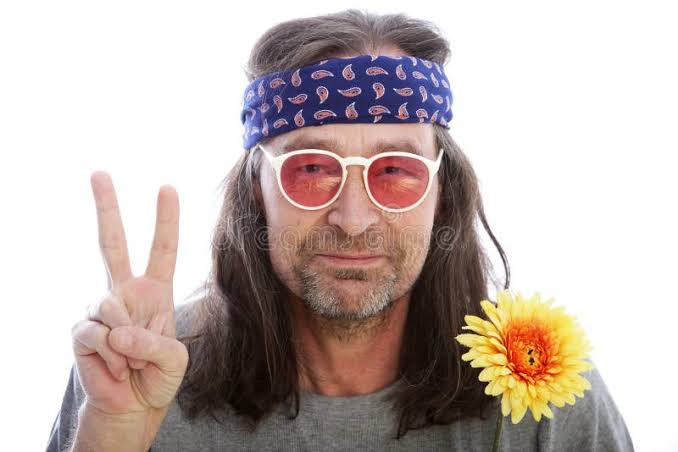peace_sign: (70, 163, 191, 413)
